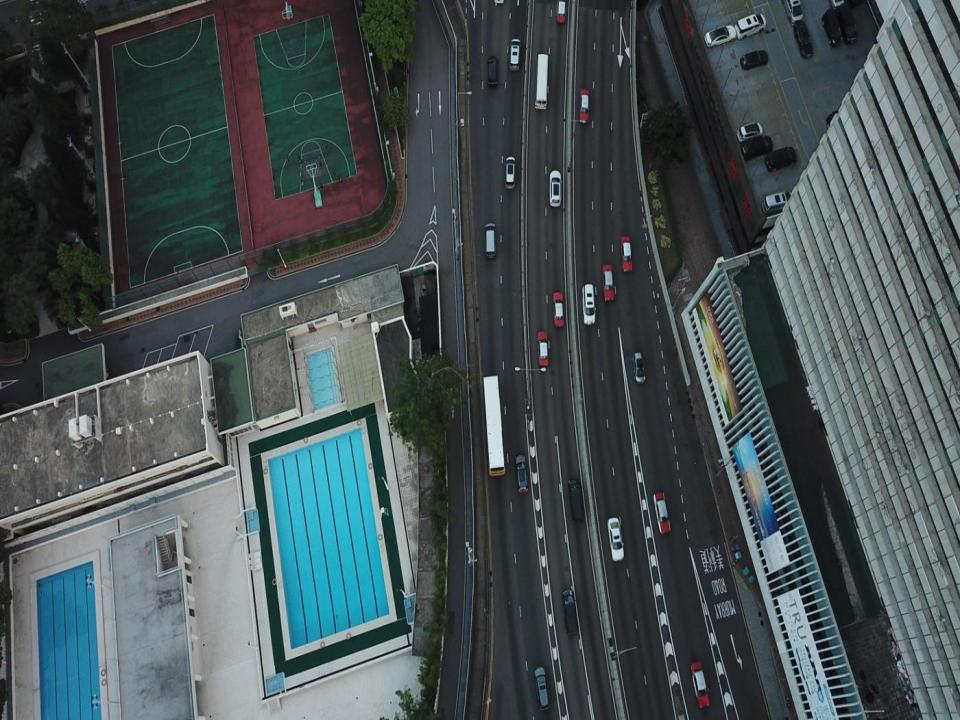bus: (483, 375, 505, 476), (535, 53, 548, 110)
car: (690, 661, 710, 708), (765, 146, 797, 173), (740, 135, 773, 161), (704, 23, 736, 48), (794, 20, 814, 59), (652, 492, 670, 534), (568, 478, 585, 522), (562, 589, 578, 634), (608, 517, 624, 561), (535, 666, 550, 710), (582, 284, 596, 326), (740, 50, 769, 70), (515, 455, 529, 493), (737, 122, 763, 142), (631, 351, 646, 384), (620, 235, 633, 273), (549, 170, 562, 206), (536, 331, 549, 366), (602, 264, 614, 301), (484, 223, 496, 259), (552, 292, 564, 327), (508, 38, 521, 70), (578, 88, 590, 122), (504, 156, 516, 189), (487, 57, 498, 86), (556, 0, 566, 24)
van: (762, 191, 800, 214), (821, 9, 843, 48), (734, 13, 766, 39), (838, 4, 857, 44), (826, 110, 846, 146), (782, 0, 803, 26), (829, 0, 845, 12)
